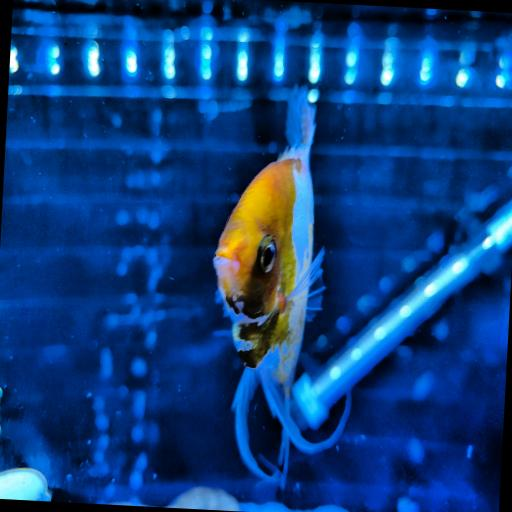Fish: (214, 88, 349, 487)
